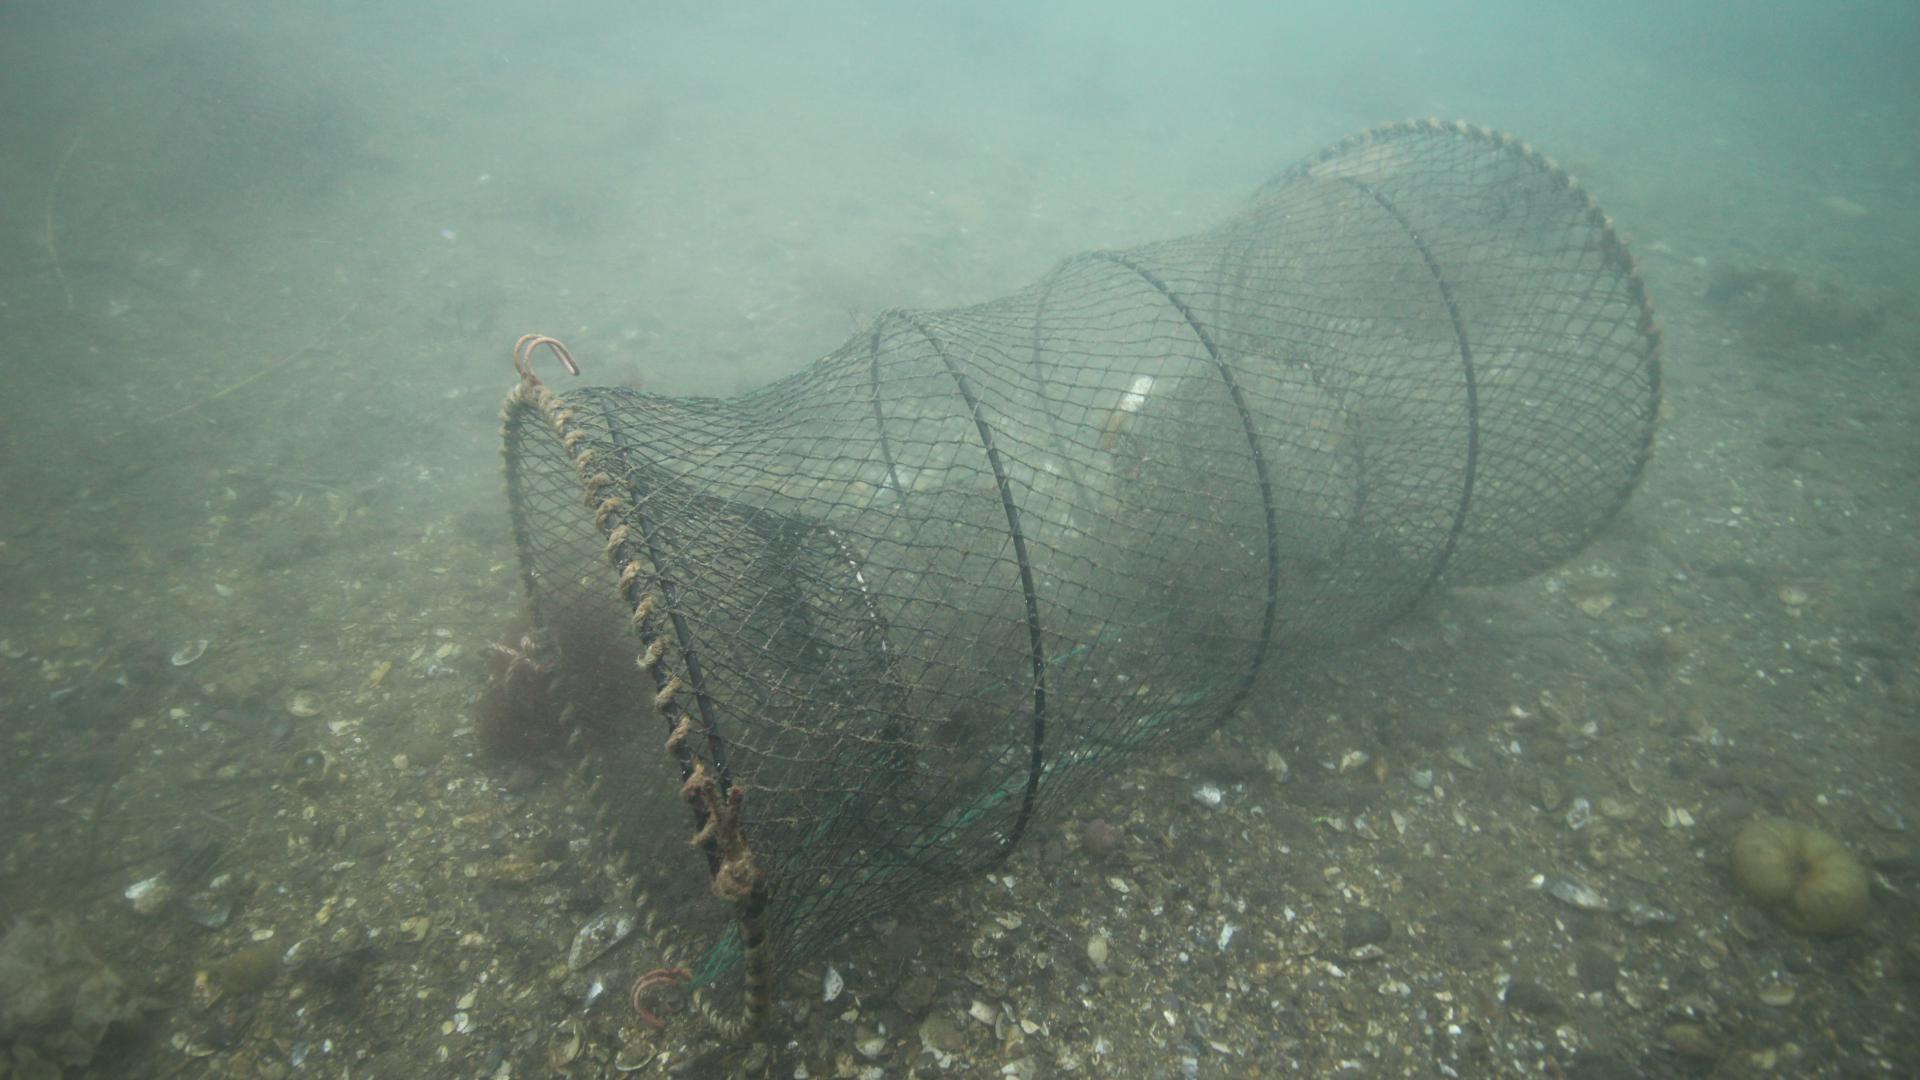spring fish trap: (497, 113, 1665, 1043)
